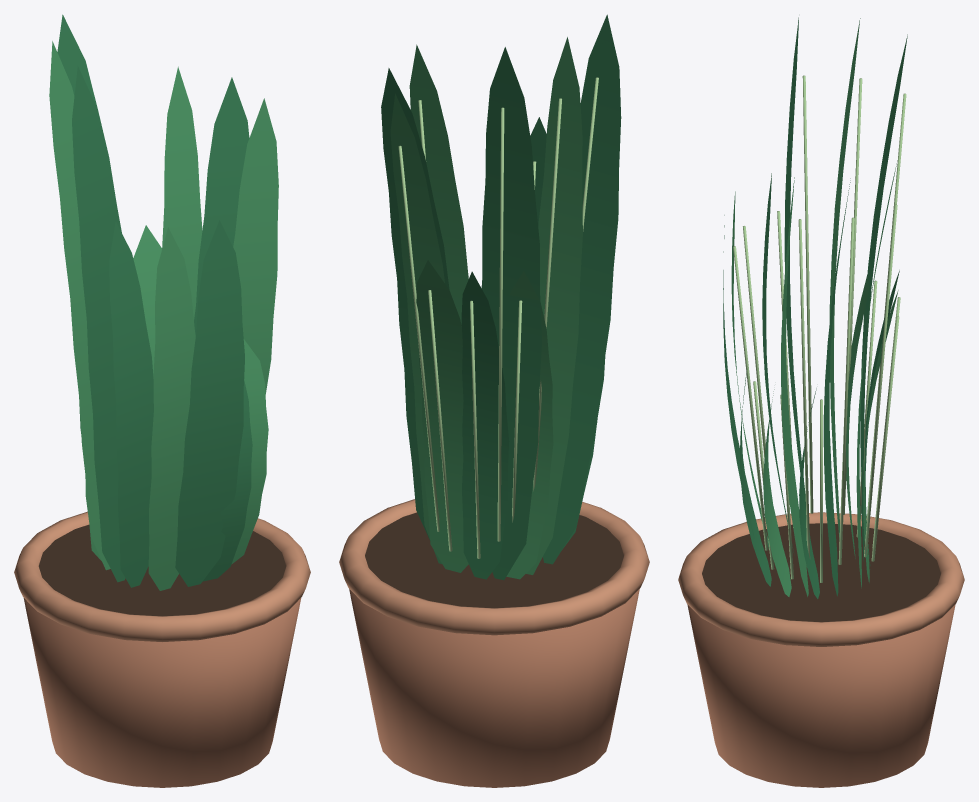
Rendered from snake_plant.glb.
3 renders of one model, left to right at view 1: azimuth 30°, elevation 25°; view 2: azimuth 150°, elevation 25°; view 3: azimuth 270°, elevation 25°, orthographic. The views are drawn at different scales.
Parts seen in each view (by area): view 1: pot_static, leaf_g176_snake_2, leaf_g292_snake_4, leaf_g466_snake_7, leaf_g756_snake_12, pot_rim_static, soil_static, leaf_g814_snake_13, leaf_g582_snake_9, leaf_g234_snake_3, leaf_g524_snake_8, leaf_g350_snake_5 (+3 smaller); view 2: pot_static, leaf_g872_snake_14, leaf_g292_snake_4, leaf_g582_snake_9, pot_rim_static, soil_static, leaf_g408_snake_6, leaf_g698_snake_11, leaf_g234_snake_3, leaf_g814_snake_13, leaf_g524_snake_8, leaf_g118_snake_1 (+8 smaller); view 3: pot_static, soil_static, pot_rim_static, leaf_g872_snake_14, leaf_g814_snake_13, leaf_g582_snake_9, leaf_g292_snake_4, leaf_g524_snake_8, vein_g292_snake_4, leaf_g350_snake_5, vein_g234_snake_3, vein_g524_snake_8 (+18 smaller).
Boxes of the visible parts, x1,y1,x2,y2 form: pot_static: [23, 598, 301, 787]; leaf_g176_snake_2: [175, 220, 244, 586]; leaf_g292_snake_4: [72, 66, 125, 582]; leaf_g466_snake_7: [148, 227, 195, 590]; leaf_g756_snake_12: [109, 222, 153, 587]; pot_rim_static: [14, 511, 310, 641]; soil_static: [38, 524, 286, 616]; leaf_g814_snake_13: [233, 98, 278, 393]; leaf_g582_snake_9: [49, 41, 110, 570]; leaf_g234_snake_3: [162, 66, 202, 319]; leaf_g524_snake_8: [194, 77, 249, 336]; leaf_g350_snake_5: [231, 339, 268, 564]; pot_static: [349, 589, 639, 787]; leaf_g872_snake_14: [481, 47, 541, 580]; leaf_g292_snake_4: [543, 14, 621, 564]; leaf_g582_snake_9: [526, 37, 582, 574]; pot_rim_static: [339, 499, 649, 635]; soil_static: [365, 512, 623, 608]; leaf_g408_snake_6: [461, 271, 509, 579]; leaf_g698_snake_11: [416, 260, 468, 572]; leaf_g234_snake_3: [390, 93, 444, 563]; leaf_g814_snake_13: [409, 44, 468, 324]; leaf_g524_snake_8: [381, 68, 449, 540]; leaf_g118_snake_1: [506, 271, 553, 579]; pot_static: [687, 604, 955, 787]; soil_static: [702, 523, 940, 622]; pot_rim_static: [678, 512, 964, 646]; leaf_g872_snake_14: [860, 34, 907, 561]; leaf_g814_snake_13: [781, 177, 808, 596]; leaf_g582_snake_9: [829, 18, 860, 540]; leaf_g292_snake_4: [784, 17, 810, 536]; leaf_g524_snake_8: [823, 178, 850, 596]; vein_g292_snake_4: [802, 75, 813, 513]; leaf_g350_snake_5: [763, 389, 791, 596]; vein_g234_snake_3: [864, 204, 897, 557]; vein_g524_snake_8: [838, 217, 854, 564].
Bounding box in the file's own units: 0.39 × 1.03 × 0.39.
